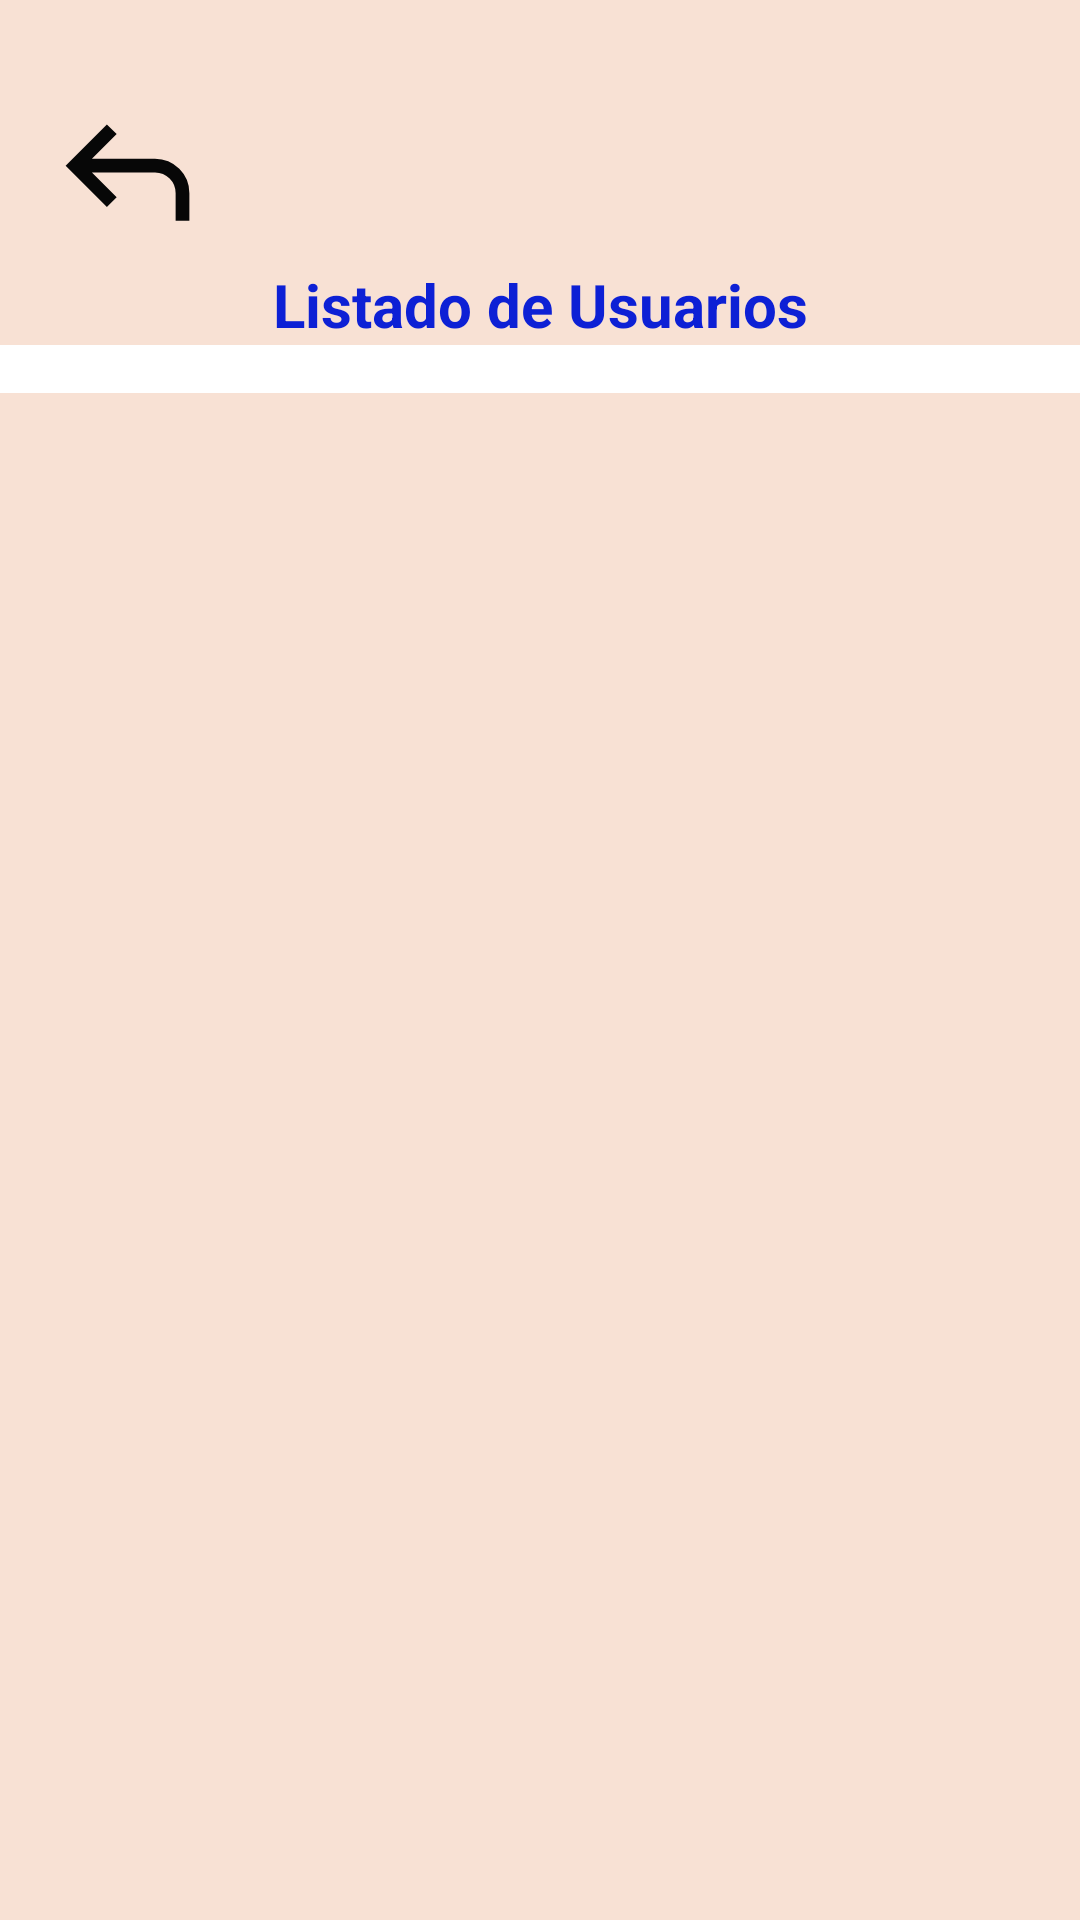

Named icons in this screenshot (1080px×1920px) and their centers, [x,y]:
regresar: [127,172]
